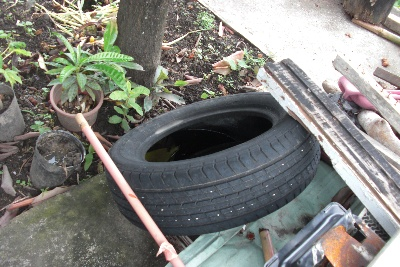tire: (106, 89, 323, 238)
